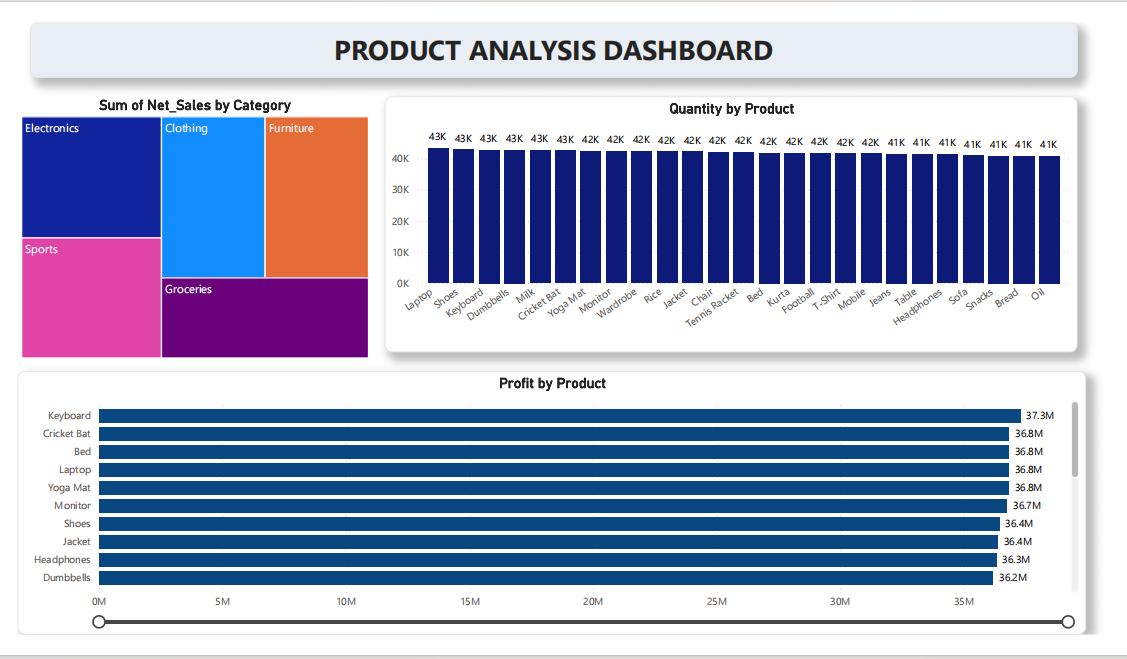

The dashboard page shown, as its layout file describes it:
{"tool":"powerbi","page":{"name":"Product Analysis","canvas":[1280,720],"ordinal":2},"visuals":[{"type":"treemap","fields":{"Group":["big_sales_dataset_100k.Category"],"Values":["Sum(big_sales_dataset_100k.Net_Sales)"]},"box":[9.9,0,419.1,359.5],"z":0},{"type":"barChart","title":"Profit by Product","fields":{"Category":["big_sales_dataset_100k.Product"],"Y":["Sum(big_sales_dataset_100k.Profit)"]},"box":[0,369.4,1257.3,351.2],"z":1000},{"type":"columnChart","title":"Quantity by Product","fields":{"Category":["big_sales_dataset_100k.Product"],"Y":["Sum(big_sales_dataset_100k.Quantity)"]},"box":[439,0,828.2,359.5],"z":2000}]}

Visuals, with their boxes on the page's 1280x720 design canvas (x1, y1, x2, y2). These are canvas units, not pixel positions in the 1127x659 screenshot, which may show the page scaled, cropped or inside an application window:
treemap - big_sales_dataset_100k.Category x Sum(big_sales_dataset_100k.Net_Sales): BBox(10, 0, 429, 360)
"Profit by Product" barChart: BBox(0, 369, 1257, 721)
"Quantity by Product" columnChart: BBox(439, 0, 1267, 360)
